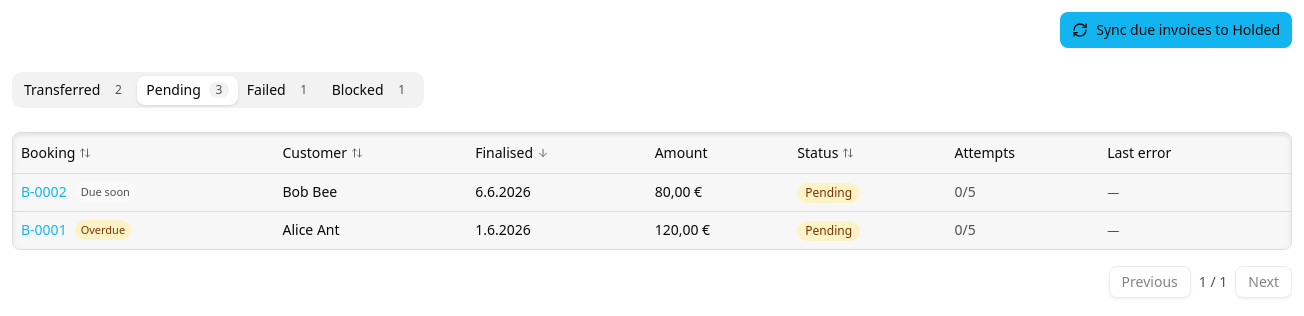
Test: Invoicing route › Failed tab surfaces the last error + a per-row Retry button
Click the tab with test id "invoicing-tab-failed". click: (280,90)
box: x1=238 y1=76 x2=323 y2=104
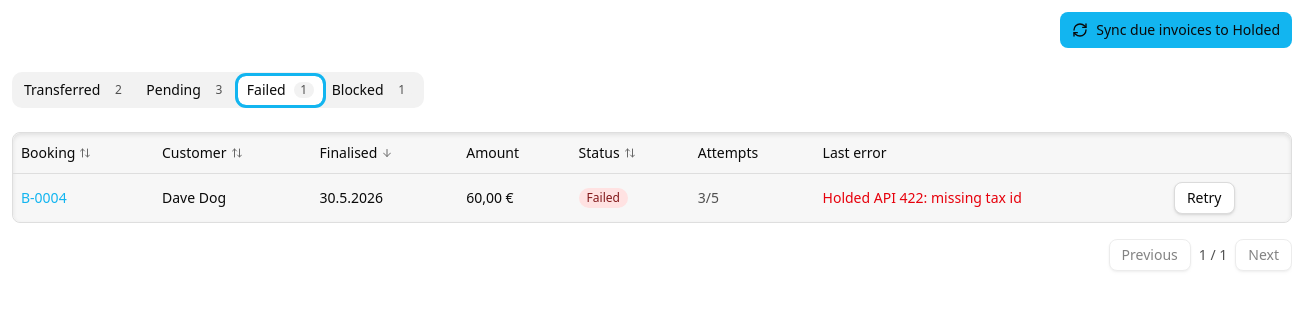
Result: the row with test id "invoicing-row-log-failed-1" is shown at x1=13 y1=173 x2=1291 y2=222
Result: the text with test id "invoicing-error-log-failed-1" shows "missing tax id" at x1=822 y1=188 x2=1022 y2=206
Result: the button with test id "invoicing-retry-log-failed-1" is shown at x1=1174 y1=182 x2=1234 y2=214
